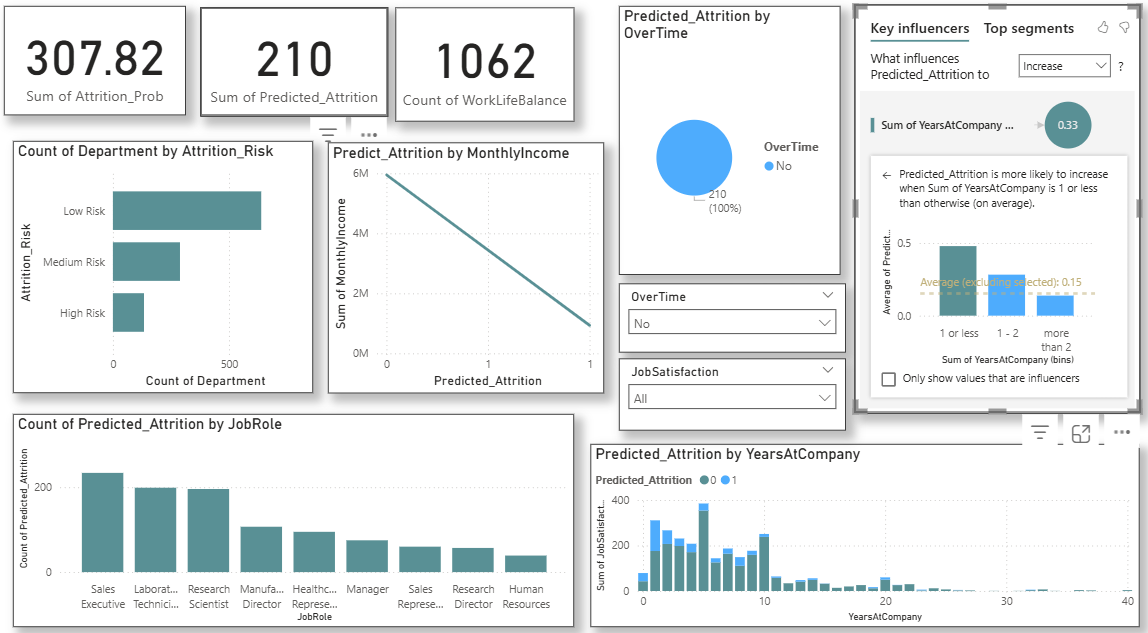

This screenshot's page, from the dashboard's own definition file:
{"tool":"powerbi","page":{"name":"Page 1","canvas":[1280,720],"ordinal":0},"visuals":[{"type":"card","fields":{"Values":["Sum(employee_attrition.Attrition_Prob)"]},"box":[6.3,12.6,202.1,121.6],"z":0},{"type":"card","fields":{"Values":["Sum(employee_attrition.Predicted_Attrition)"]},"box":[224.2,14.2,208.4,121.6],"z":1},{"type":"card","fields":{"Values":["CountNonNull(employee_attrition.WorkLifeBalance)"]},"box":[441.7,15,198.3,126.7],"z":2},{"type":"barChart","fields":{"Y":["CountNonNull(employee_attrition.Department)"],"Category":["employee_attrition.Attrition_Risk"]},"box":[16.7,163.3,333.3,280],"z":3},{"type":"clusteredColumnChart","fields":{"Y":["CountNonNull(employee_attrition.Predicted_Attrition)"],"Category":["employee_attrition.JobRole"]},"box":[16.7,466.7,623.3,236.7],"z":4},{"type":"pieChart","title":"Predicted_Attrition by OverTime","fields":{"Category":["employee_attrition.OverTime"],"Y":["Sum(employee_attrition.Predicted_Attrition)"]},"box":[690,12.6,246.3,298.4],"z":5},{"type":"lineStackedColumnComboChart","title":"Predicted_Attrition by YearsAtCompany","fields":{"Category":["employee_attrition.YearsAtCompany"],"Series":["employee_attrition.Predicted_Attrition"],"Y":["Sum(employee_attrition.JobSatisfaction)"]},"box":[658.3,500,610,203.3],"z":6},{"type":"lineChart","title":"Predict_Attrition by MonthlyIncome","fields":{"Y":["Sum(employee_attrition.MonthlyIncome)"],"Category":["employee_attrition.Predicted_Attrition"]},"box":[366.7,165,306.7,278.3],"z":7},{"type":"slicer","fields":{"Values":["employee_attrition.OverTime"]},"box":[690,321.7,251.7,76.7],"z":8},{"type":"slicer","fields":{"Values":["employee_attrition.JobSatisfaction"]},"box":[690,405,251.7,80],"z":9},{"type":"keyDriversVisual","fields":{"Target":["employee_attrition.Predicted_Attrition"],"ExplainBy":["Sum(employee_attrition.JobSatisfaction)","Sum(employee_attrition.YearsAtCompany)"]},"box":[952.1,11.1,317.4,454.7],"z":10}]}

Visuals, with their boxes in screenshot pixels (x1, y1, x2, y2), scaled from the page's 1280x720 canvas onto the 1148x633 screenshot:
card - Sum(employee_attrition.Attrition_Prob): pyautogui.locateOnScreen(6, 11, 187, 118)
card - Sum(employee_attrition.Predicted_Attrition): pyautogui.locateOnScreen(201, 12, 388, 119)
card - CountNonNull(employee_attrition.WorkLifeBalance): pyautogui.locateOnScreen(396, 13, 574, 125)
barChart - CountNonNull(employee_attrition.Department) x employee_attrition.Attrition_Risk: pyautogui.locateOnScreen(15, 144, 314, 390)
clusteredColumnChart - CountNonNull(employee_attrition.Predicted_Attrition) x employee_attrition.JobRole: pyautogui.locateOnScreen(15, 410, 574, 618)
"Predicted_Attrition by OverTime" pieChart: pyautogui.locateOnScreen(619, 11, 840, 273)
"Predicted_Attrition by YearsAtCompany" lineStackedColumnComboChart: pyautogui.locateOnScreen(590, 440, 1138, 618)
"Predict_Attrition by MonthlyIncome" lineChart: pyautogui.locateOnScreen(329, 145, 604, 390)
slicer - employee_attrition.OverTime: pyautogui.locateOnScreen(619, 283, 845, 350)
slicer - employee_attrition.JobSatisfaction: pyautogui.locateOnScreen(619, 356, 845, 426)
keyDriversVisual - employee_attrition.Predicted_Attrition x Sum(employee_attrition.JobSatisfaction): pyautogui.locateOnScreen(854, 10, 1139, 410)
